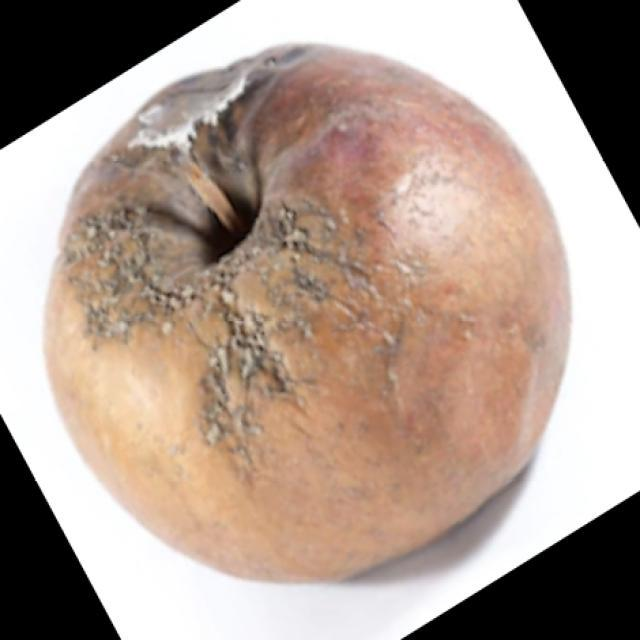Rotten: (53, 48, 555, 577)
